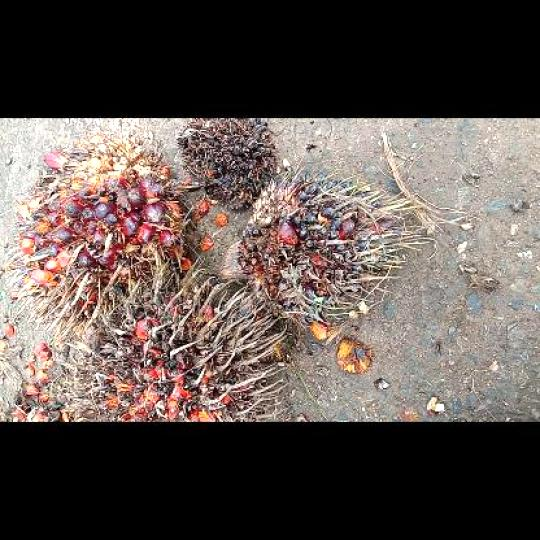masak: (13, 132, 215, 348)
terlalu masak: (68, 268, 290, 420)
